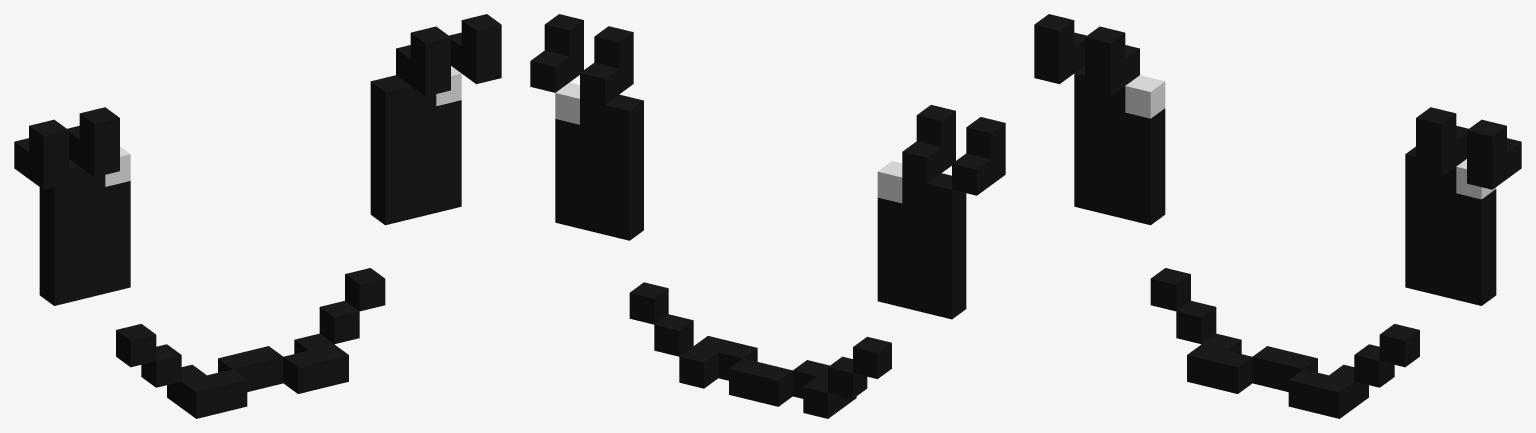
The model's file is KaWaYee.obj.
3 renders of one model, left to right at view 1: azimuth 30°, elevation 25°; view 2: azimuth 150°, elevation 25°; view 3: azimuth 330°, elevation 25°, orthographic. The views are drawn at different scales.
Parts seen in each view (by area): view 1: KaWaYee; view 2: KaWaYee; view 3: KaWaYee.
Boxes of the visible parts, box(x1,y1,x2,y2) form: KaWaYee: box(14, 14, 501, 418); KaWaYee: box(530, 14, 1005, 418); KaWaYee: box(1034, 14, 1521, 418).
Bounding box in the file's own units: 18 × 12 × 2.
Materials: 1 (1 with a texture image).
